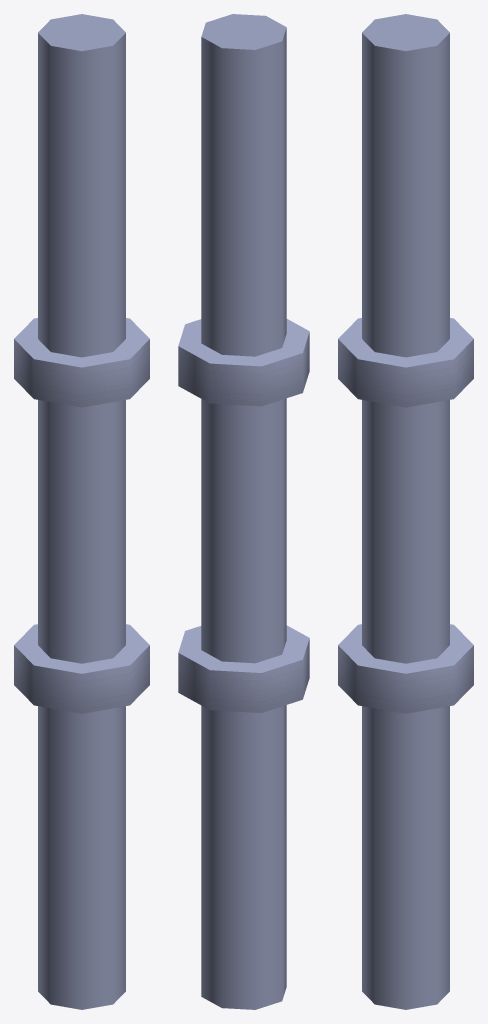
Rendered from gutter-vertical-wall.glb.
3 renders of one model, left to right at view 1: azimuth 90°, elevation 25°; view 2: azimuth 150°, elevation 25°; view 3: azimuth 270°, elevation 25°, orthographic.
Parts seen in each view (by area): view 1: gutter-vertical-wall; view 2: gutter-vertical-wall; view 3: gutter-vertical-wall.
Part boxes in pixels (box(x1,y1,x2,y2)): gutter-vertical-wall: box(14, 14, 149, 1009); gutter-vertical-wall: box(178, 14, 309, 1009); gutter-vertical-wall: box(338, 14, 473, 1009).
Size of the model in its own units: 0.3082 by 2.4 by 0.3082.
Materials: 1 (1 with a texture image).
